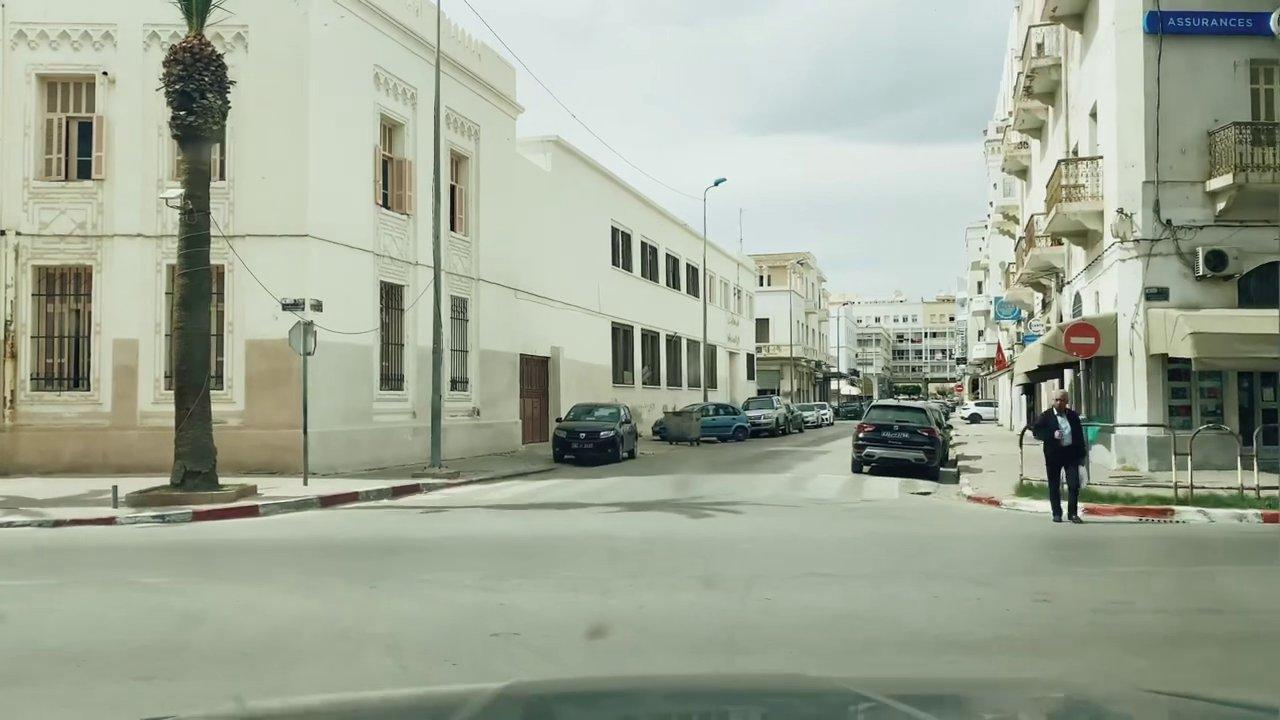no entry: (1061, 321, 1102, 360)
